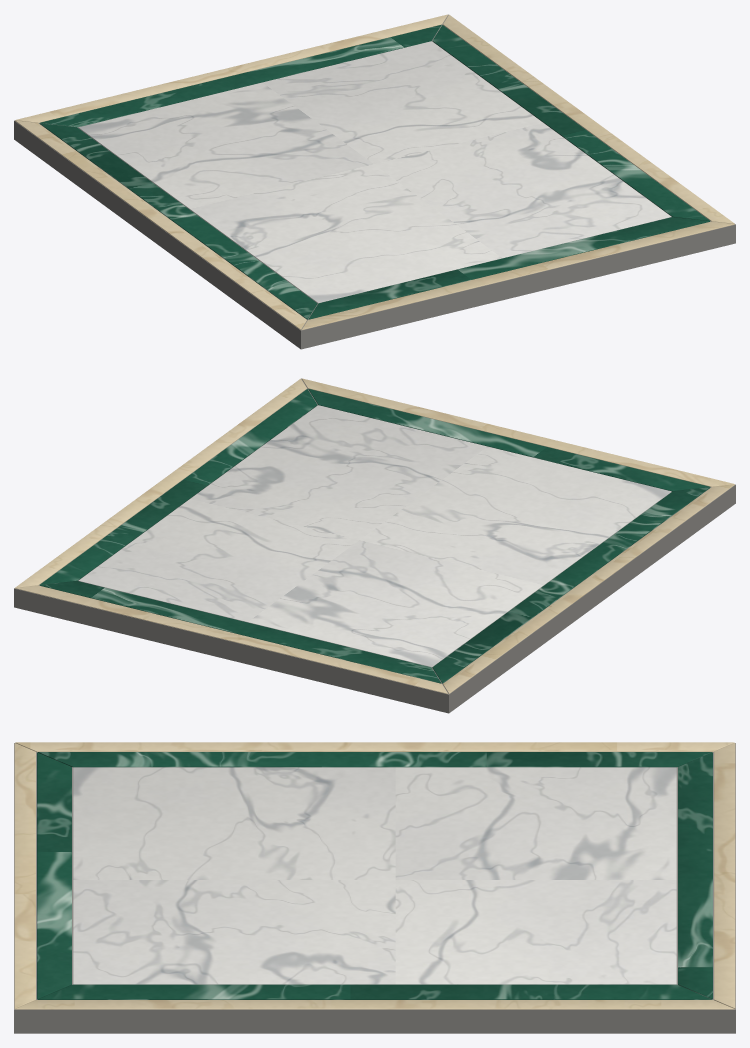
Rendered from floor_KA-DB011.glb.
3 renders of one model, top to bottom at view 1: azimuth 30°, elevation 25°; view 2: azimuth 150°, elevation 25°; view 3: azimuth 270°, elevation 25°, orthographic. The views are drawn at different scales.
Visible parts, largest first — view 1: Floor; view 2: Floor; view 3: Floor.
Part boxes in pixels (x1,y1,x2,y2): Floor: [14, 14, 735, 349]; Floor: [14, 378, 735, 713]; Floor: [14, 742, 735, 1033].
Size of the model in its own units: 1.4 by 0.06 by 1.6.
Materials: 4 (3 with a texture image).
